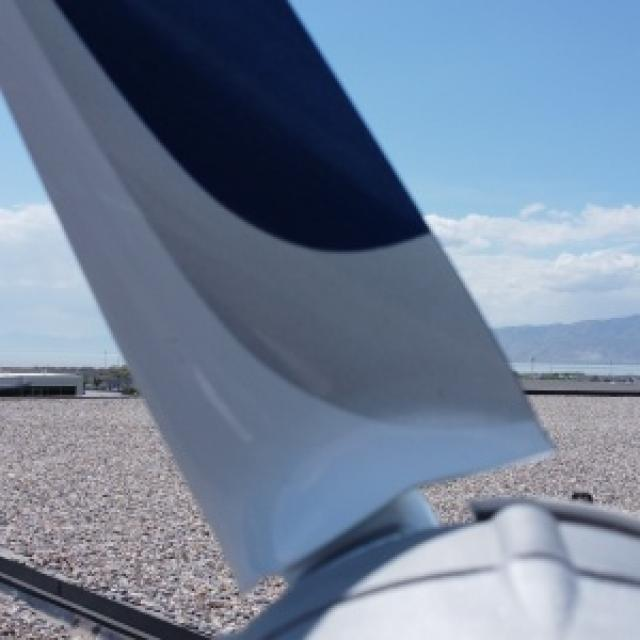healthy: (0, 0, 544, 582)
